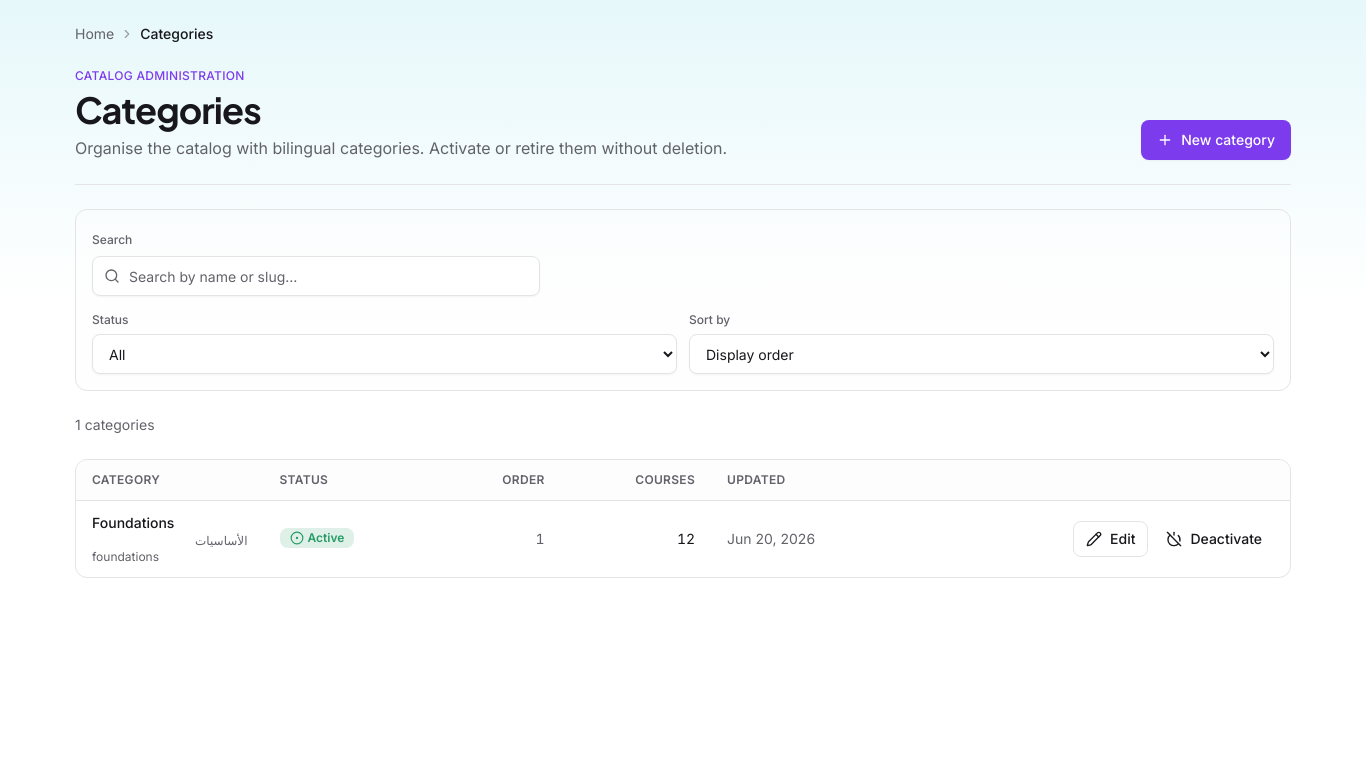
Test case: CategoriesListView › does not deactivate when the confirmation is cancelled
Click the button with aria-label "Deactivate Foundations" at (1214, 539), box top-left (1154, 521), bottom-right (1274, 557)
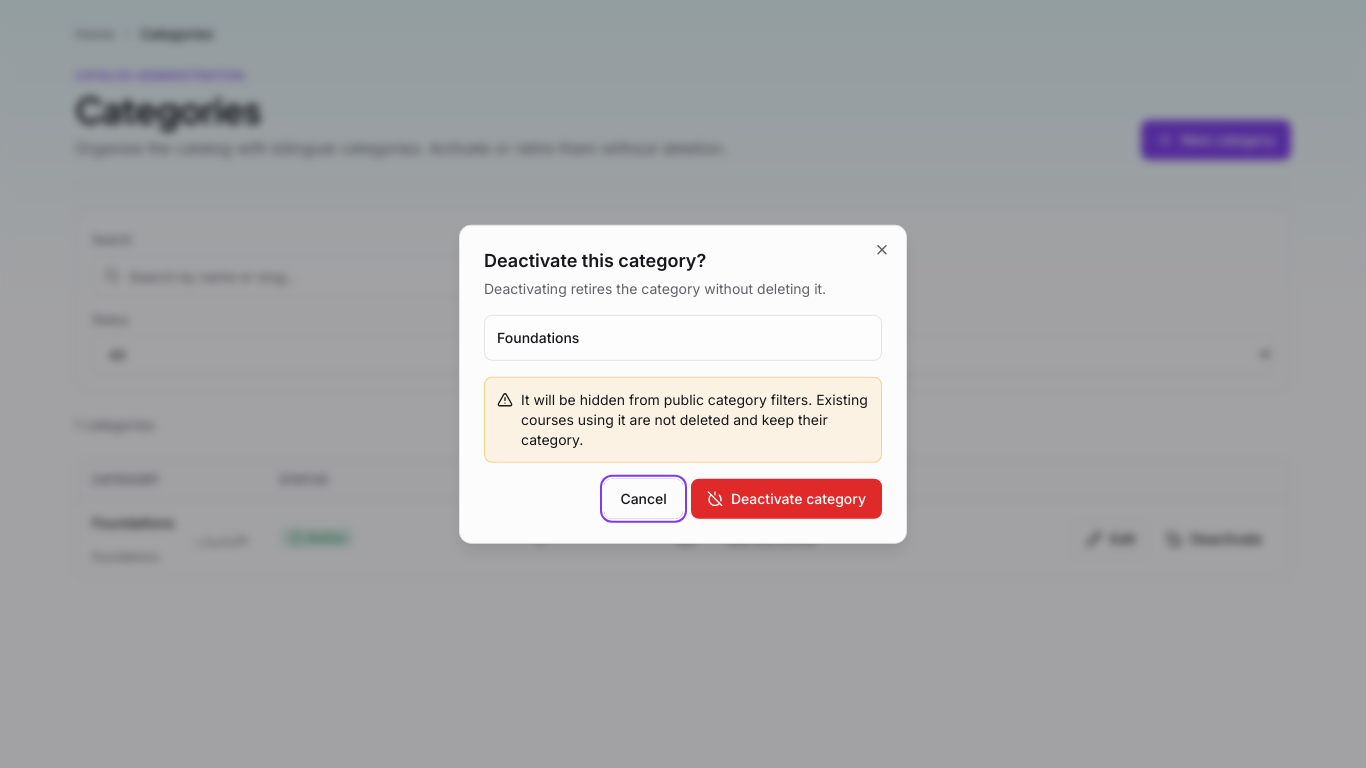
Now the heading "Deactivate this category?" is shown, box top-left (484, 250), bottom-right (706, 271)
Click the button "Cancel" at (644, 498), box top-left (604, 478), bottom-right (683, 518)
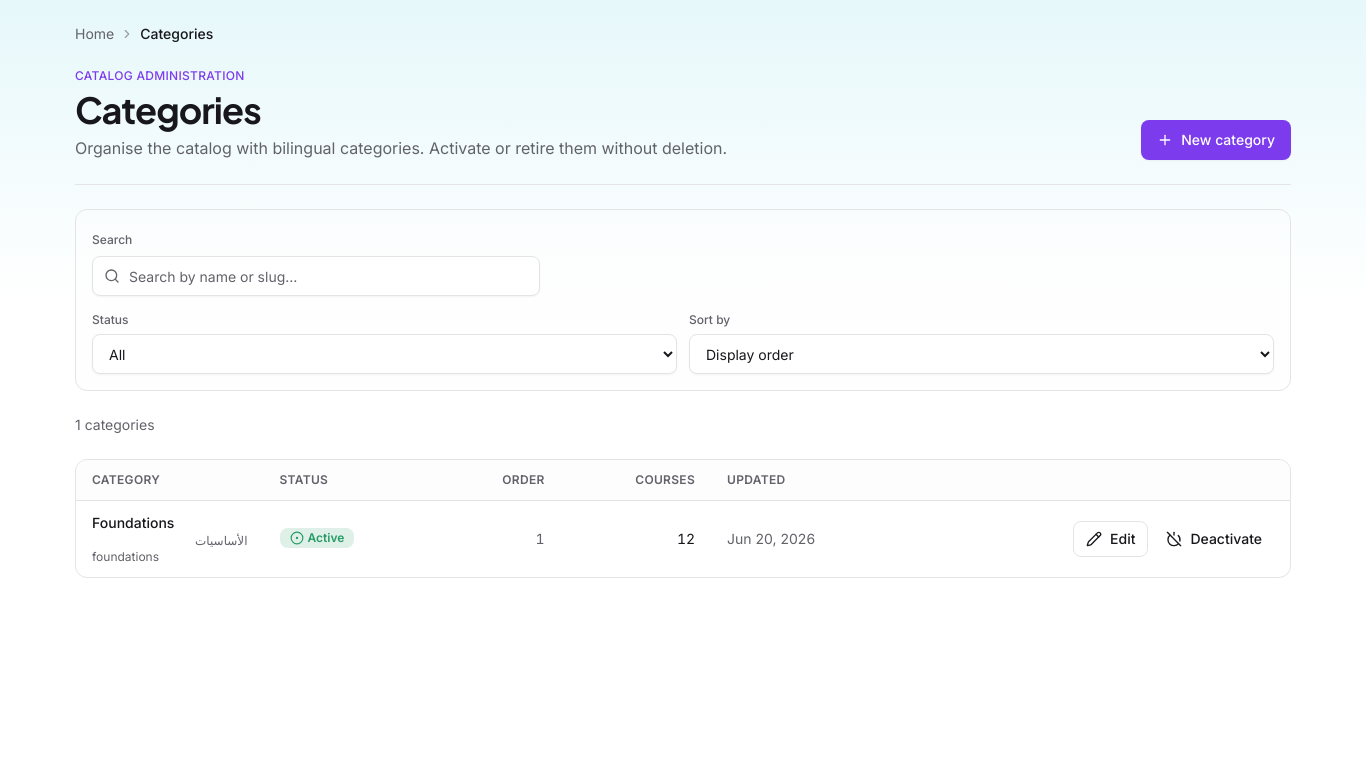
Now the heading "Deactivate this category?" is gone
